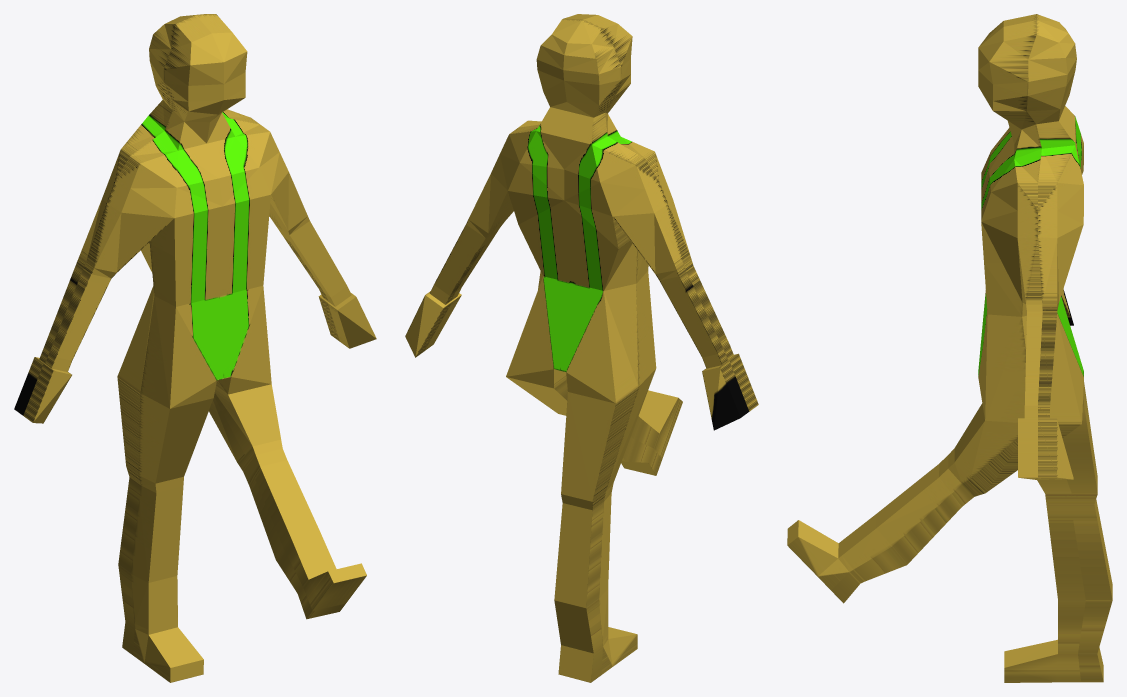
3 renders of one model, left to right at view 1: azimuth 30°, elevation 25°; view 2: azimuth 150°, elevation 25°; view 3: azimuth 270°, elevation 25°, orthographic. The views are drawn at different scales.
Parts seen in each view (by area): view 1: Borat; view 2: Borat; view 3: Borat.
Part boxes in pixels (x1,y1,x2,y2): Borat: (14, 14, 376, 682); Borat: (405, 14, 758, 682); Borat: (787, 14, 1112, 682).
Size of the model in its own units: 1.79 by 3.21 by 1.42.
